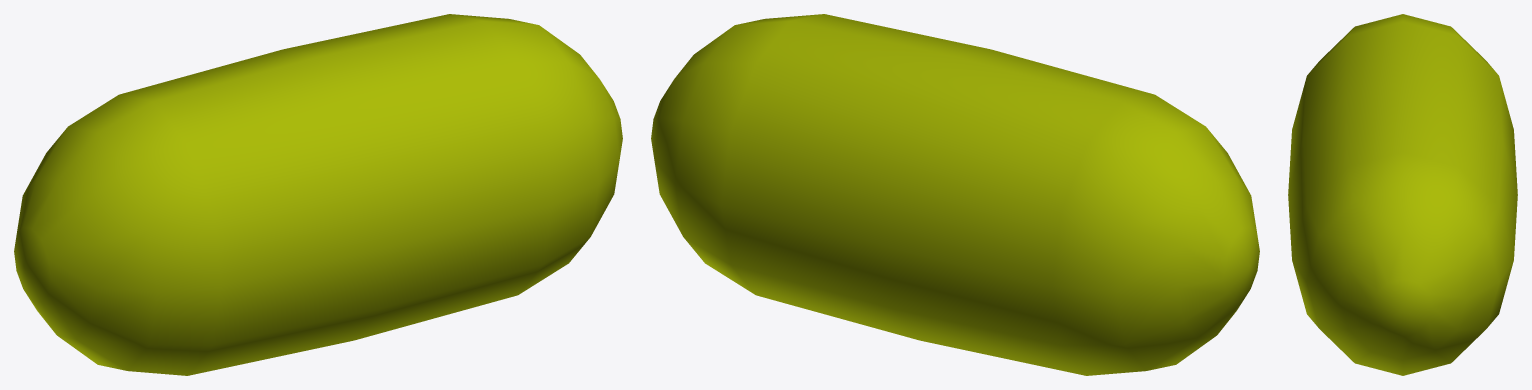
Rendered from ball.fbx.
3 views of the same model, side by side, from view 1: azimuth 30°, elevation 25°; view 2: azimuth 150°, elevation 25°; view 3: azimuth 270°, elevation 25° (orthographic). The views are drawn at different scales.
Visible parts, largest first — view 1: pSphere1; view 2: pSphere1; view 3: pSphere1.
Boxes of the visible parts, left/top/right/bottom form: pSphere1: left=14, top=14, right=622, bottom=375; pSphere1: left=651, top=14, right=1259, bottom=375; pSphere1: left=1288, top=14, right=1517, bottom=375.
Size of the model in its own units: 7.84 by 3.51 by 3.27.
